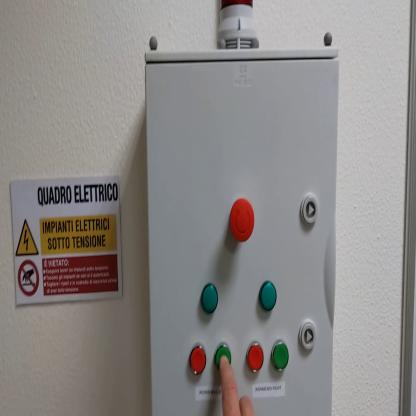hand: (219, 355, 255, 415)
left green button: (215, 342, 233, 370)
left red button: (190, 346, 207, 375)
right green button: (273, 343, 290, 373)
right red button: (248, 342, 264, 373)
